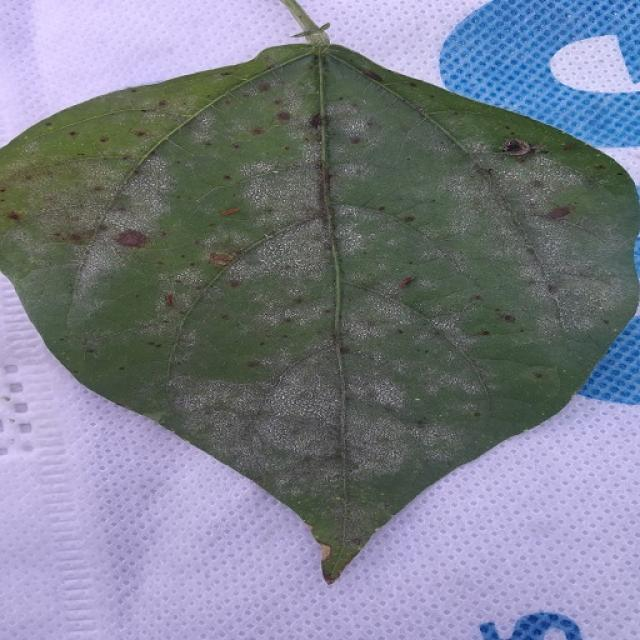Blackgram: (0, 45, 636, 579)
Powdery_Mildew: (176, 349, 418, 475), (327, 290, 494, 460), (73, 157, 190, 320), (394, 160, 546, 276), (328, 121, 471, 228), (516, 208, 633, 329), (3, 156, 133, 264), (217, 219, 330, 318), (330, 204, 443, 280), (221, 165, 322, 234), (414, 303, 494, 370), (104, 160, 178, 231), (171, 371, 253, 434), (340, 290, 426, 347), (188, 114, 222, 147)
